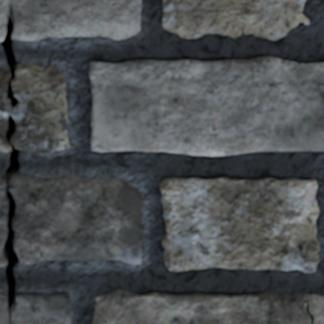brick: (89, 57, 323, 155), (160, 177, 319, 271), (93, 290, 323, 323), (162, 0, 308, 39)
broken_brick: (7, 173, 143, 265), (0, 0, 142, 41), (12, 63, 70, 155), (0, 293, 71, 323), (0, 66, 10, 153), (0, 171, 5, 267)
crack: (0, 2, 58, 321), (302, 299, 314, 323)
